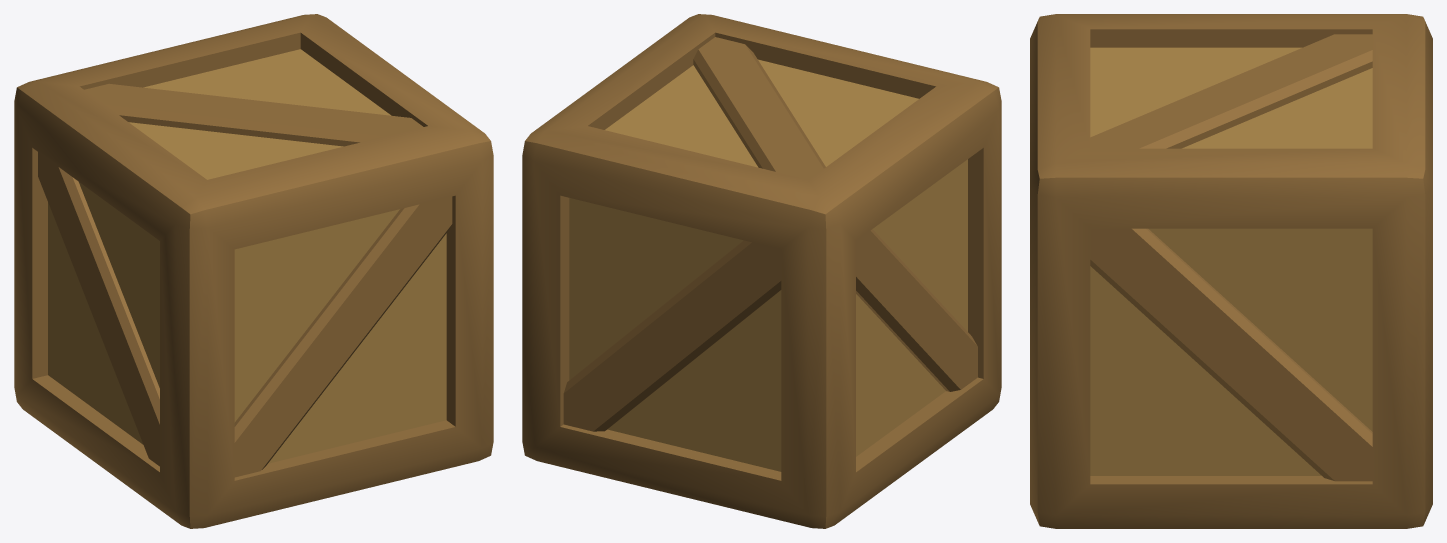
Rendered from Cube_Crate.glb.
3 renders of one model, left to right at view 1: azimuth 30°, elevation 25°; view 2: azimuth 150°, elevation 25°; view 3: azimuth 270°, elevation 25°, orthographic. The views are drawn at different scales.
Visible parts, largest first — view 1: Cube_Crate; view 2: Cube_Crate; view 3: Cube_Crate.
Part boxes in pixels (<box>): Cube_Crate: <box>14,14,493,528</box>; Cube_Crate: <box>522,14,1001,528</box>; Cube_Crate: <box>1030,14,1432,528</box>.
Size of the model in its own units: 2.02 by 2.02 by 2.02.
